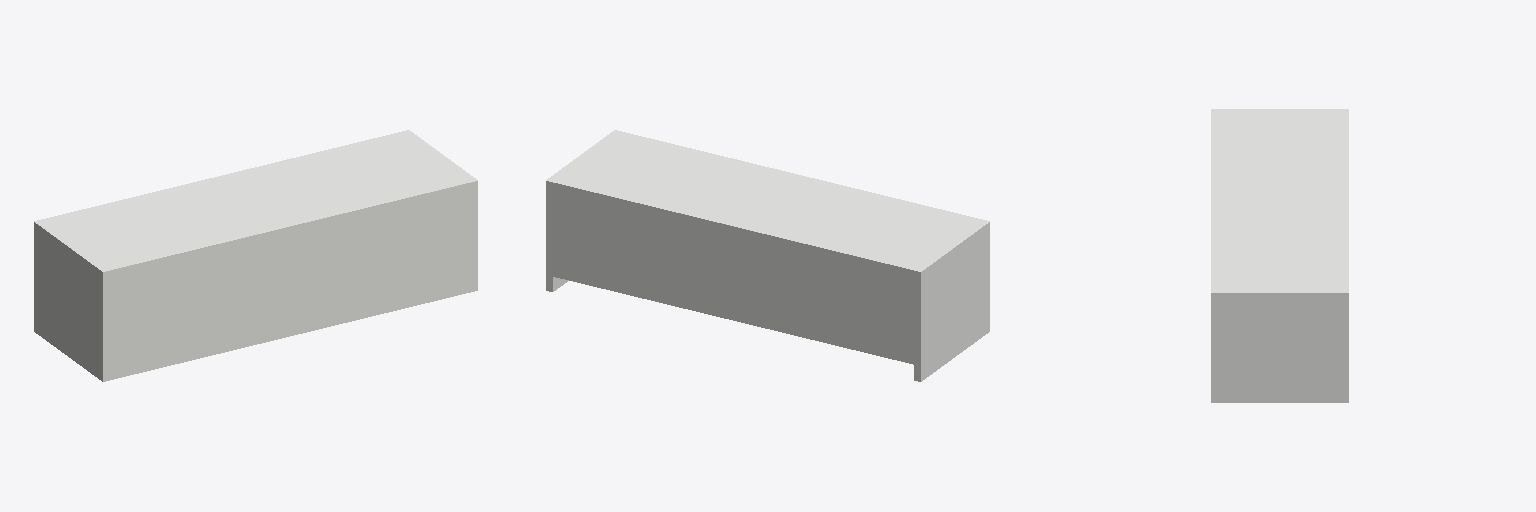
Rendered from Counter.obj.
3 views of the same model, side by side, from view 1: azimuth 30°, elevation 25°; view 2: azimuth 150°, elevation 25°; view 3: azimuth 270°, elevation 25° (orthographic).
Visible parts, largest first — view 1: Body2; view 2: Body2; view 3: Body2.
Boxes of the visible parts, x1=… form: Body2: x1=34, y1=130, x2=477, y2=381; Body2: x1=546, y1=130, x2=989, y2=381; Body2: x1=1211, y1=109, x2=1348, y2=402.
Bounding box in the file's own units: 25 × 7 × 8.